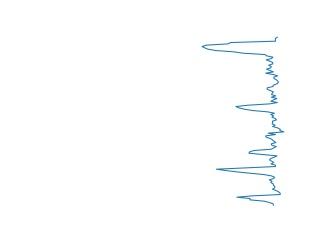distalBar: (200, 34, 284, 87)
interdistributaryEstuary: (233, 87, 287, 140)
underwaterNaturalLevee: (213, 140, 285, 208)
